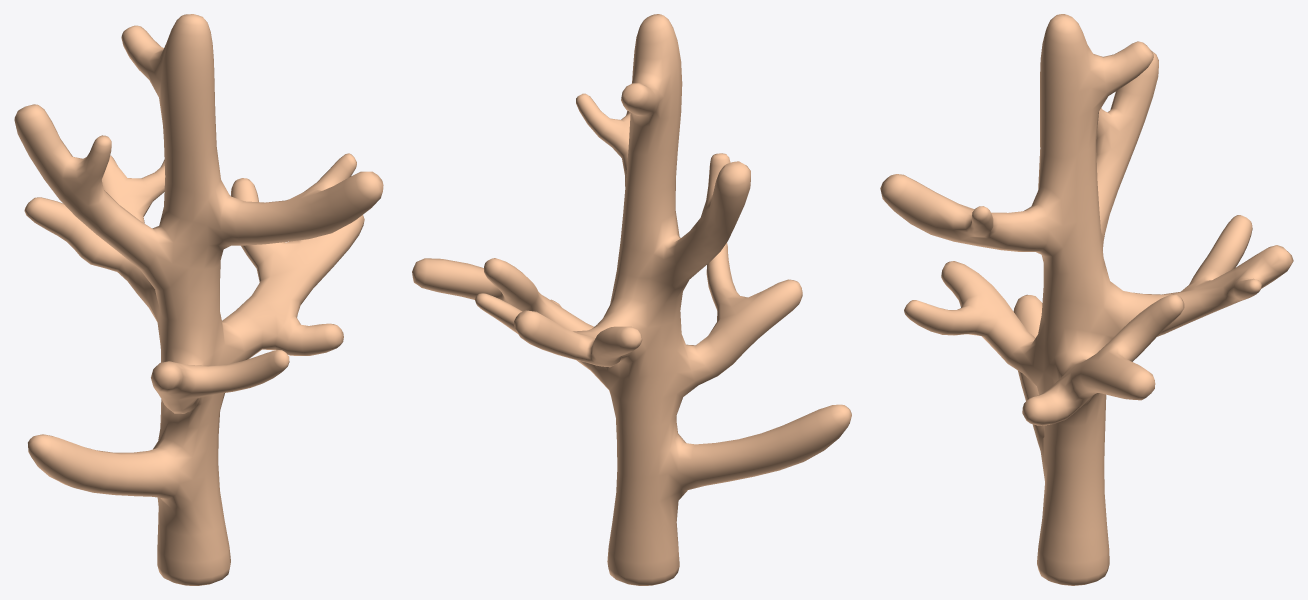
File: Coral_A_01.fbx
The picture shows the model from 3 angles, left to right: view 1: azimuth 30°, elevation 25°; view 2: azimuth 150°, elevation 25°; view 3: azimuth 270°, elevation 25°; orthographic projection. The views are drawn at different scales.
Visible parts, largest first — view 1: Coral_A_01_LOD0; view 2: Coral_A_01_LOD0; view 3: Coral_A_01_LOD0.
Part boxes in pixels (x1,y1,x2,y2): Coral_A_01_LOD0: (14, 14, 383, 585); Coral_A_01_LOD0: (412, 14, 851, 585); Coral_A_01_LOD0: (880, 14, 1293, 585).
Size of what is drawn, in the model's own units: 737 by 1024 by 693.
